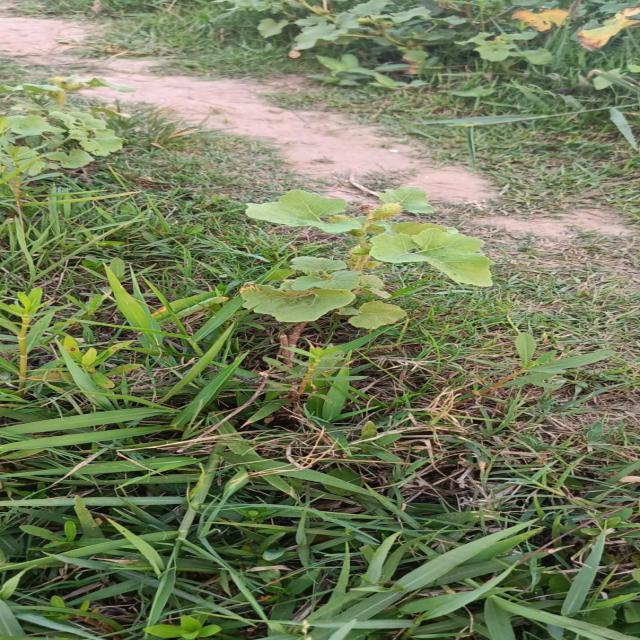plant: (237, 188, 491, 329)
